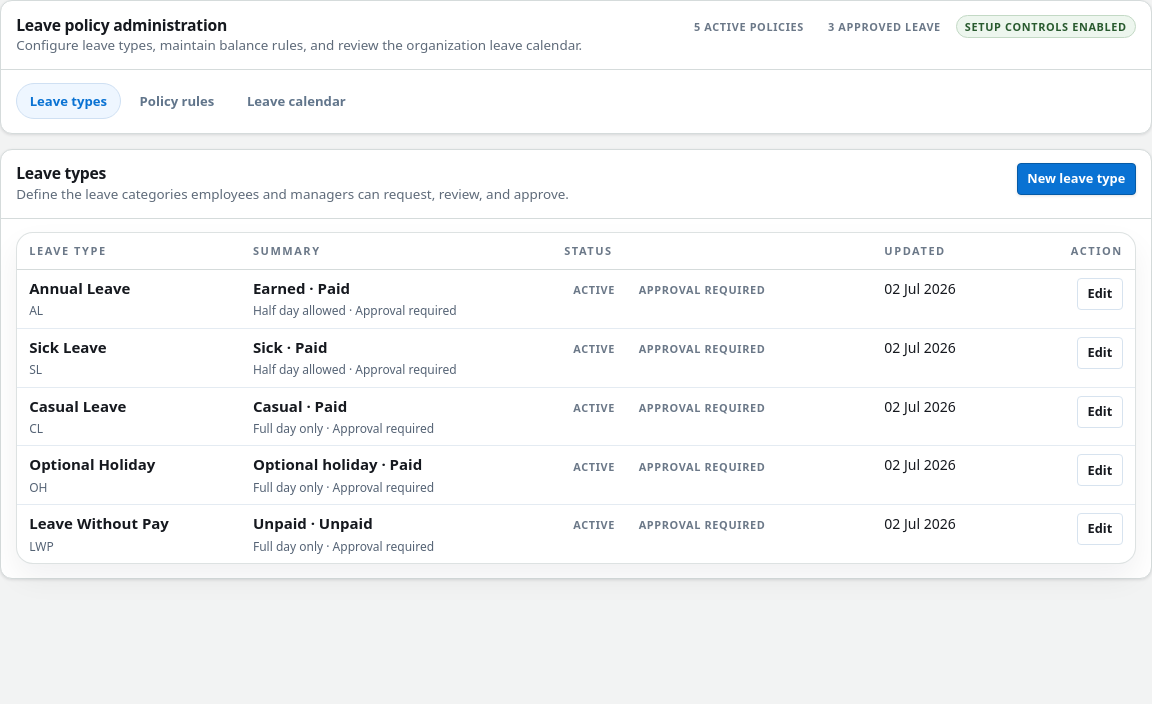
Test case: LeaveAdminWorkspace › filters the organization leave calendar by status and department
Click the tab "Leave calendar" at (296, 101), box [233,83,359,119]
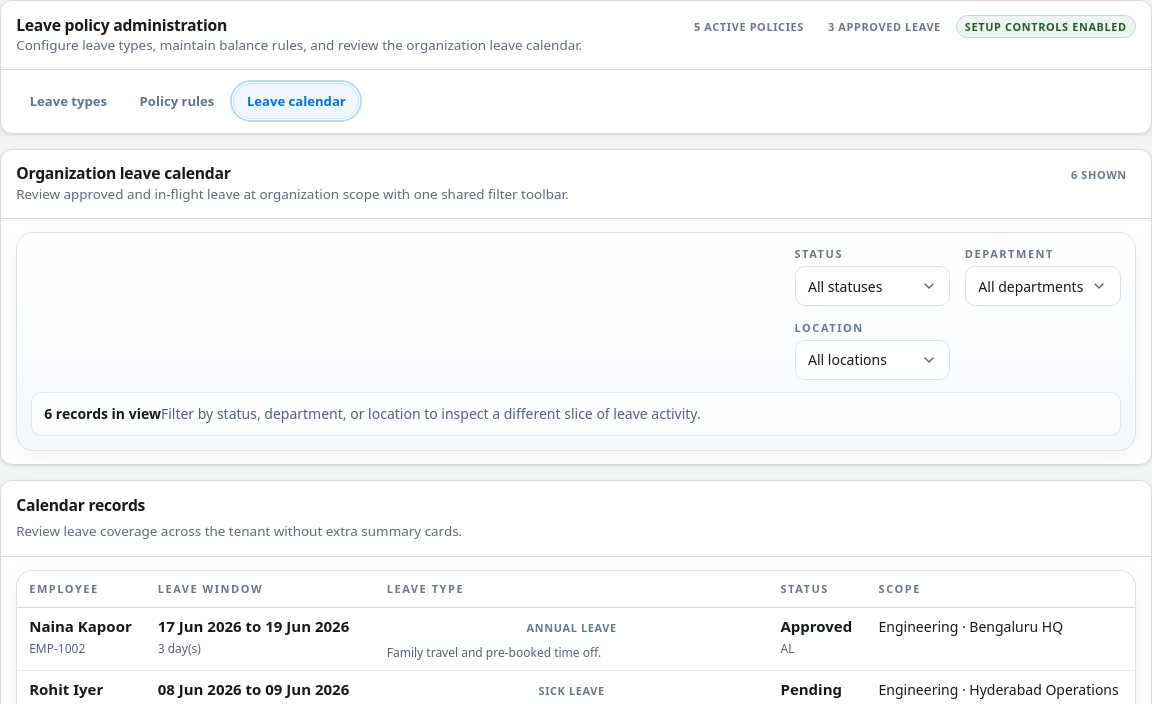
Click the dropdown labelled "status" at (872, 286), box [794,266,950,306]
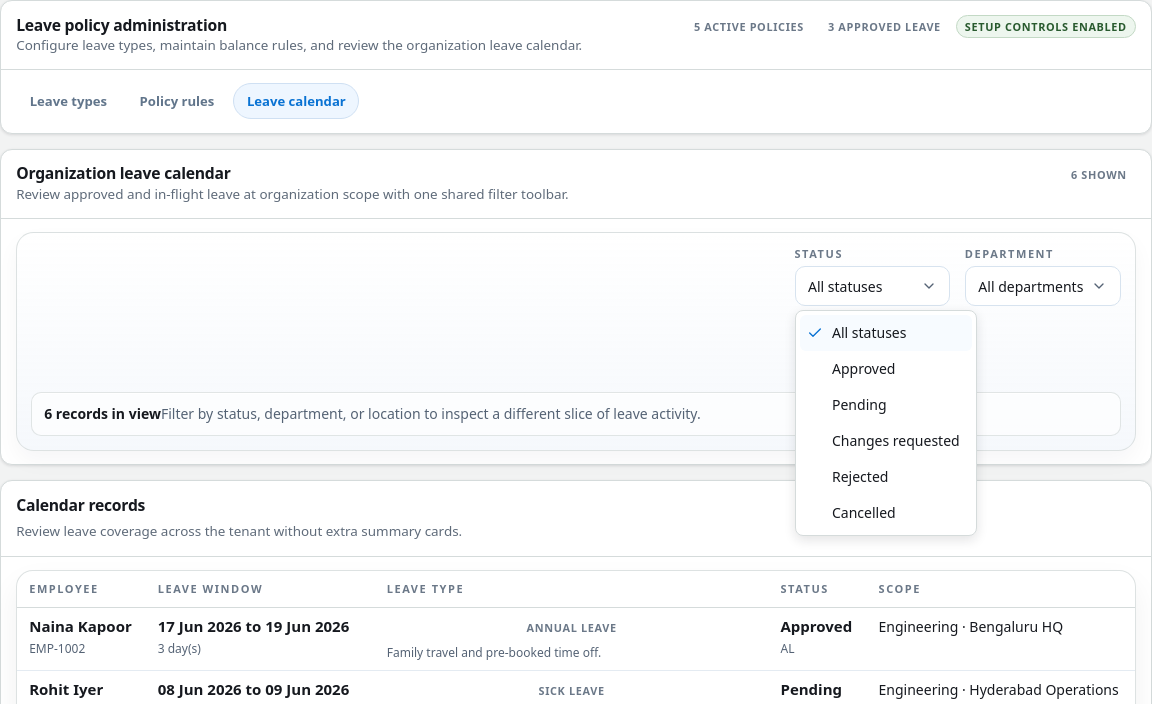
Click the option "Approved" at (864, 368), box [832,359,896,378]
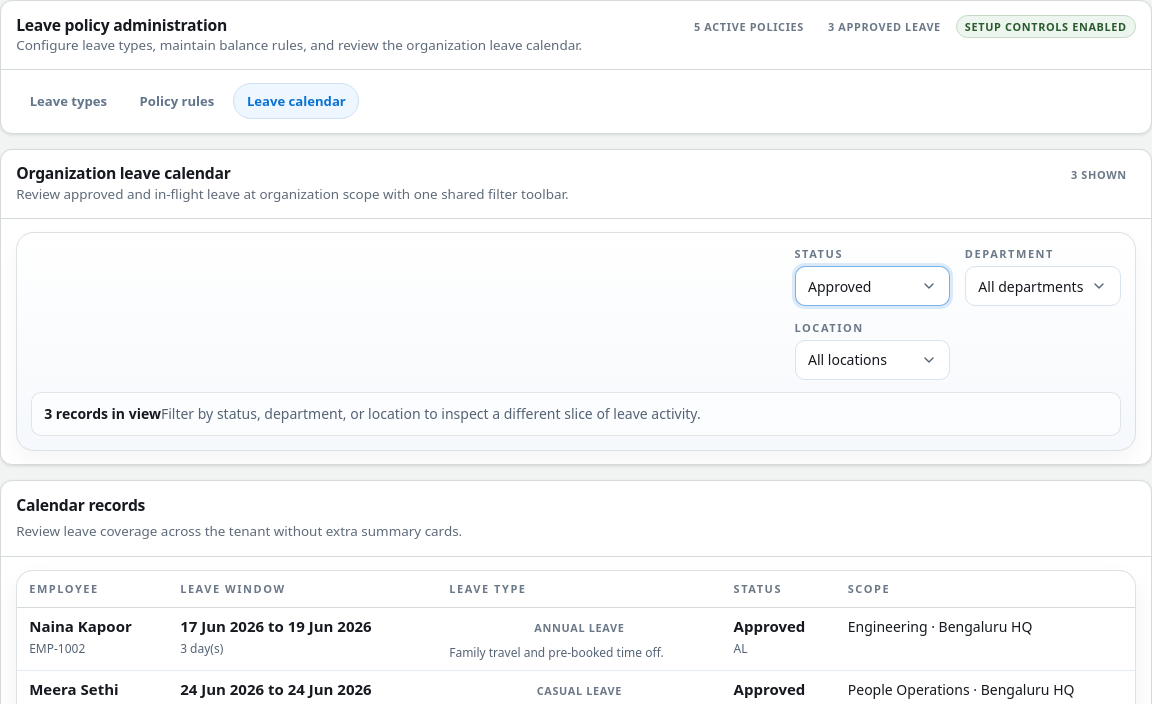
Click the dropdown labelled "department" at (1043, 286), box [965,266,1121,306]
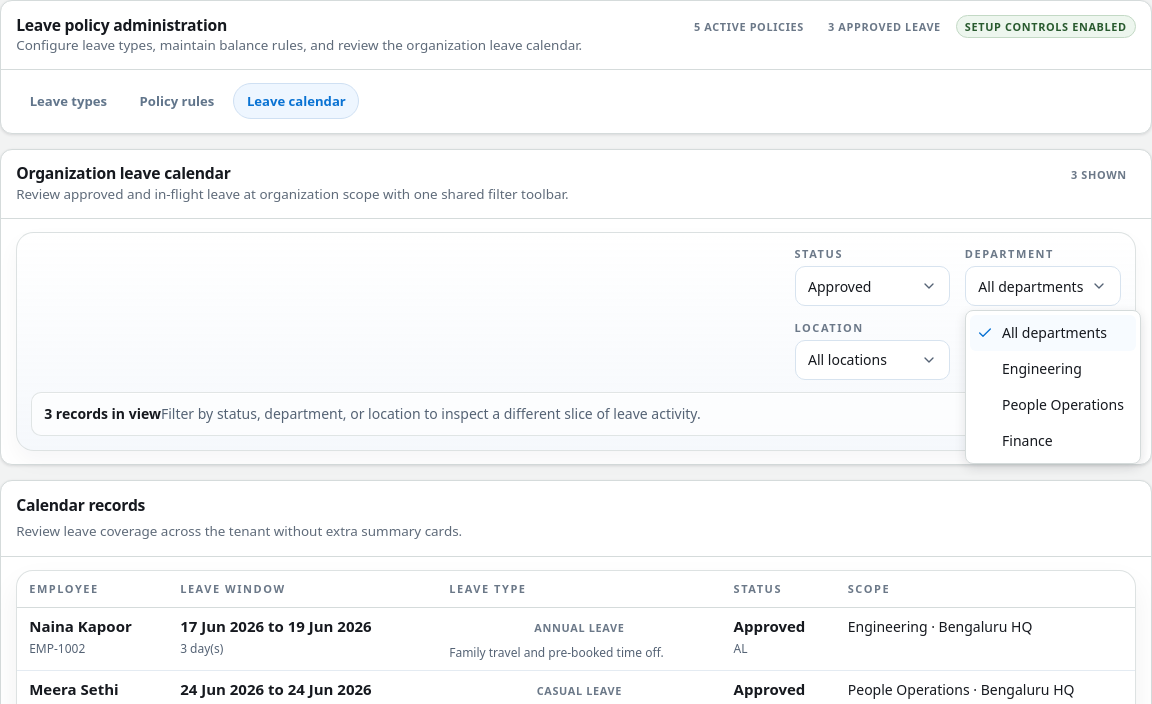
Click the option "People Operations" at (1063, 404), box [1002,395,1124,414]
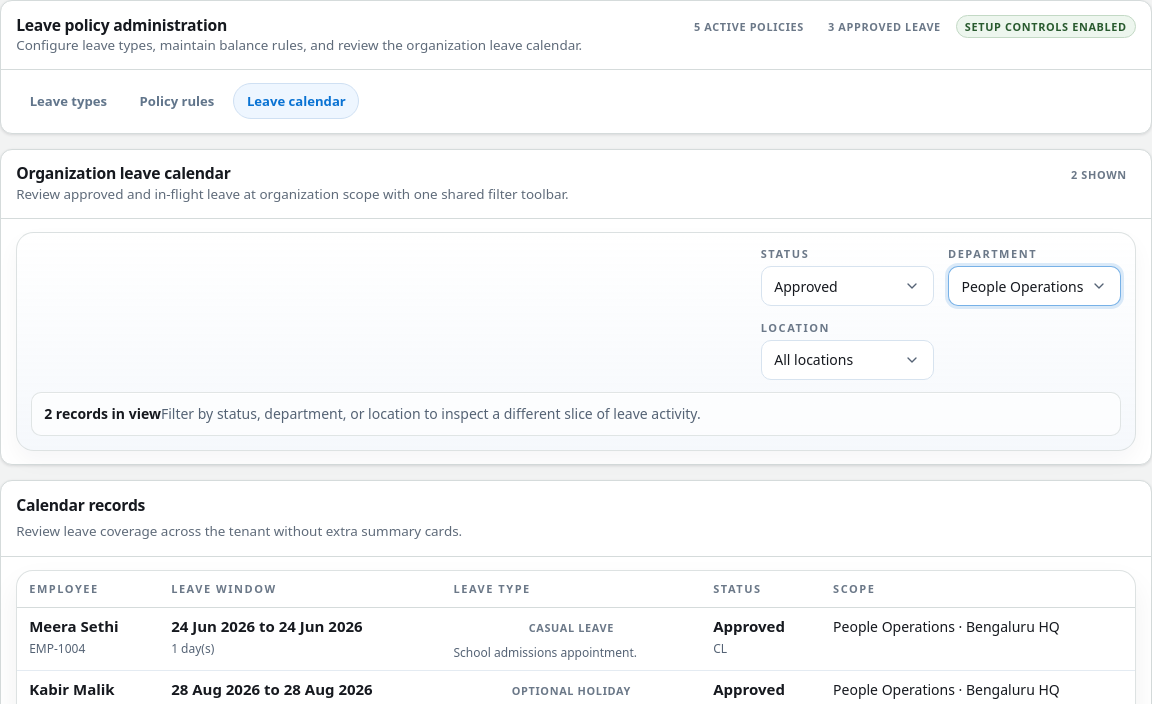
Expected: the text "Meera Sethi" is shown, [29,616,119,636]
Expected: the text "Kabir Malik" is shown, [29,679,115,699]
Expected: the text "Naina Kapoor" is gone
